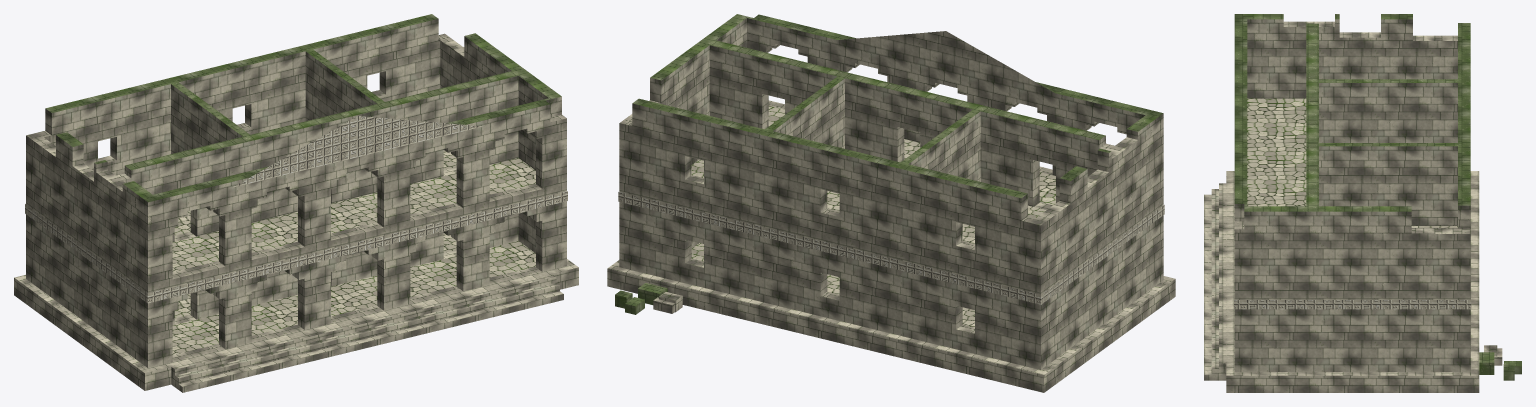
The model's file is ruin-arcade-a.reveal-v1.lod0.glb.
The picture shows the model from 3 angles, left to right: view 1: azimuth 30°, elevation 25°; view 2: azimuth 150°, elevation 25°; view 3: azimuth 270°, elevation 25°; orthographic projection. The views are drawn at different scales.
Visible parts, largest first — view 1: ruin-arcade-a; view 2: ruin-arcade-a; view 3: ruin-arcade-a.
Part boxes in pixels (x1,y1,x2,y2): ruin-arcade-a: (14,14,578,392); ruin-arcade-a: (607,14,1175,392); ruin-arcade-a: (1204,14,1521,392).
Size of the model in its own units: 23 by 11.1 by 15.07.
Materials: 4 (4 with a texture image).
